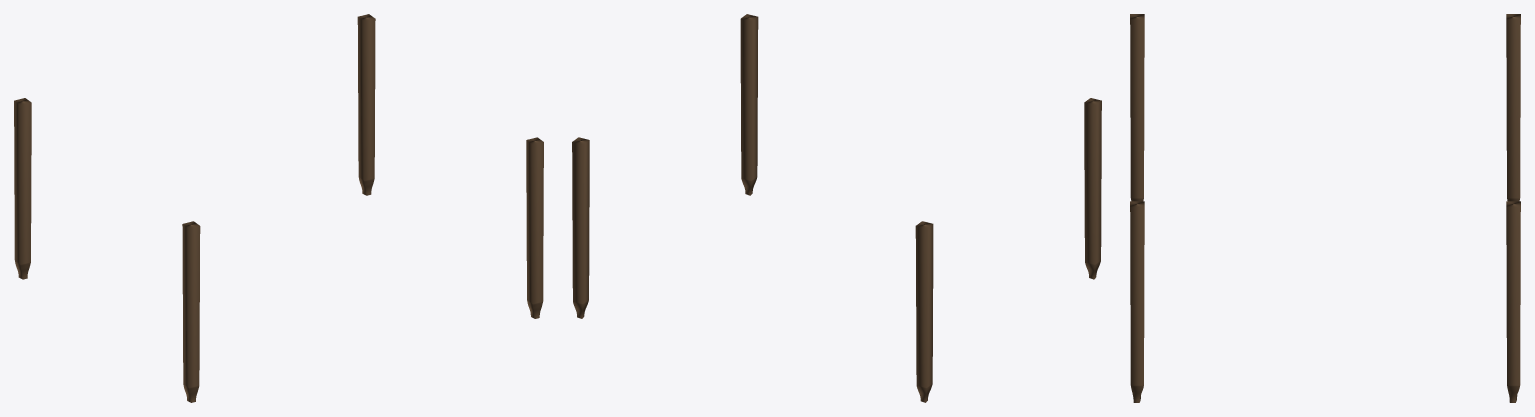
Rendered from DefractorLegs.fbx.
3 views of the same model, side by side, from view 1: azimuth 30°, elevation 25°; view 2: azimuth 150°, elevation 25°; view 3: azimuth 270°, elevation 25° (orthographic). The views are drawn at different scales.
Parts seen in each view (by area): view 1: Table leg.003, Table leg, Table leg.002, Table leg.001; view 2: Table leg.002, Table leg.001, Table leg, Table leg.003; view 3: Table leg.002, Table leg.003, Table leg, Table leg.001.
Part boxes in pixels (x1,y1,x2,y2): Table leg.003: (526, 137, 543, 318); Table leg: (14, 98, 31, 279); Table leg.002: (357, 14, 375, 195); Table leg.001: (182, 221, 200, 402); Table leg.002: (572, 137, 589, 318); Table leg.001: (1084, 98, 1101, 279); Table leg: (915, 221, 933, 402); Table leg.003: (740, 14, 758, 195); Table leg.002: (1506, 201, 1520, 402); Table leg.003: (1130, 201, 1144, 402); Table leg: (1506, 14, 1520, 201); Table leg.001: (1130, 14, 1144, 201).
Size of the model in its own units: 11.75 by 5.58 by 10.03.
